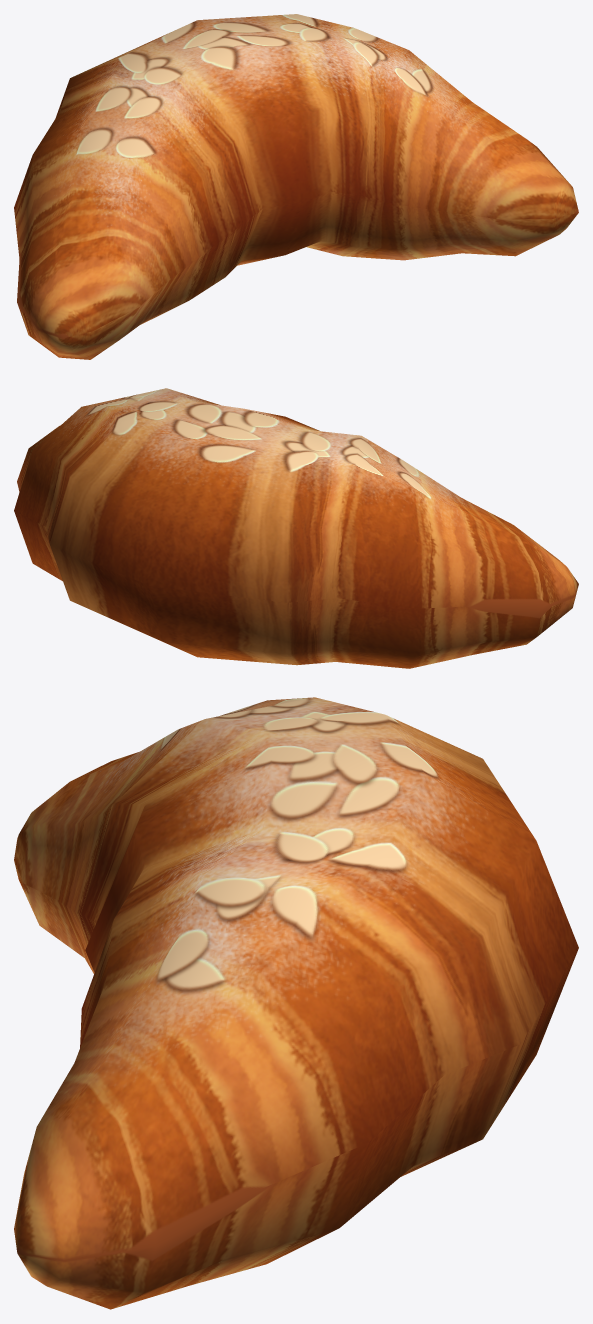
Rendered from Croissant_04.fbx.
3 views of the same model, one above another, from view 1: azimuth 30°, elevation 25°; view 2: azimuth 150°, elevation 25°; view 3: azimuth 270°, elevation 25° (orthographic). The views are drawn at different scales.
Visible parts, largest first — view 1: Croissant_04; view 2: Croissant_04; view 3: Croissant_04.
Boxes of the visible parts, x1,y1,x2,y2 form: Croissant_04: (14,14,578,359); Croissant_04: (14,388,578,668); Croissant_04: (14,697,578,1309).
Size of the model in its own units: 47.4 by 18.71 by 26.24.
